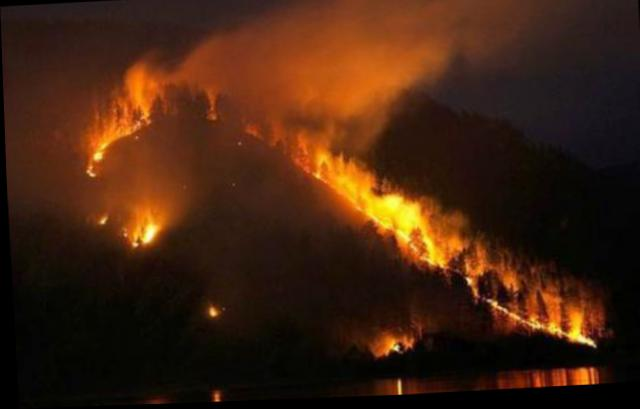fire: (83, 57, 595, 374)
